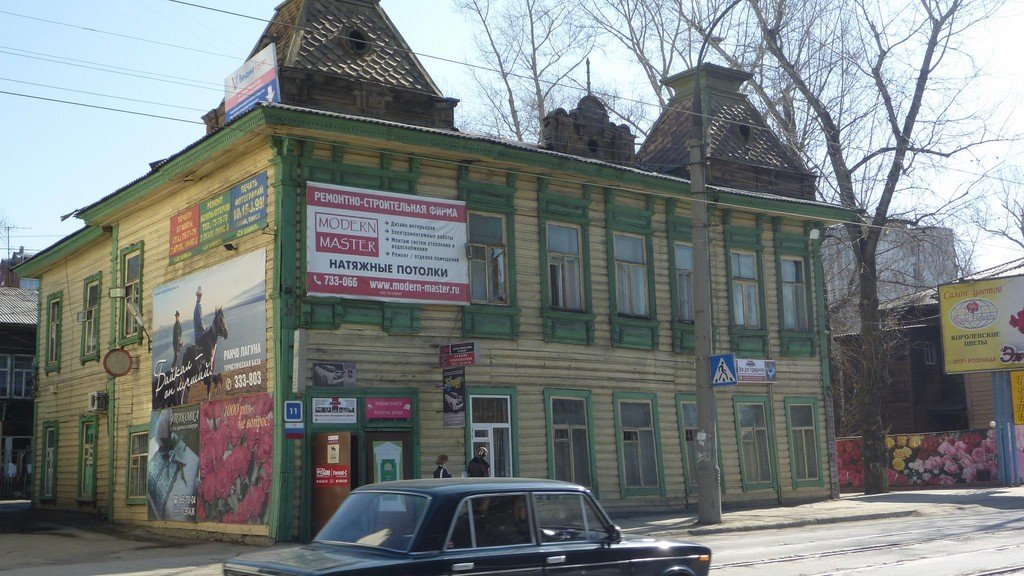sign: (708, 352, 737, 388)
